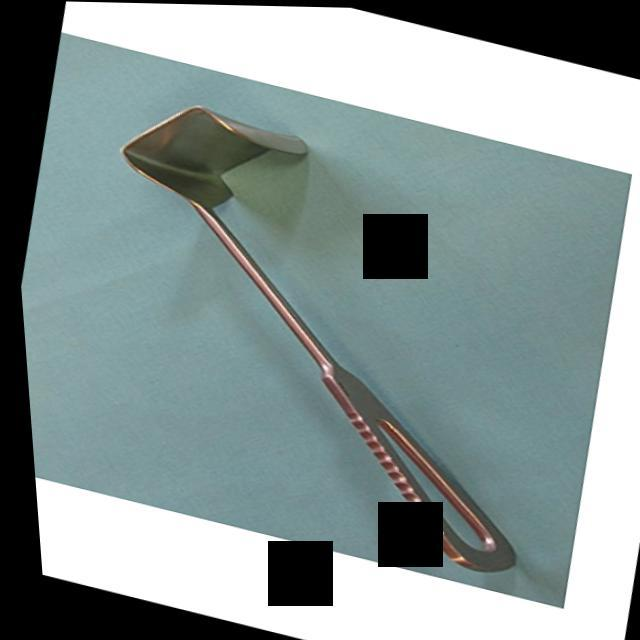Morris Retractor: (29, 76, 608, 586)
